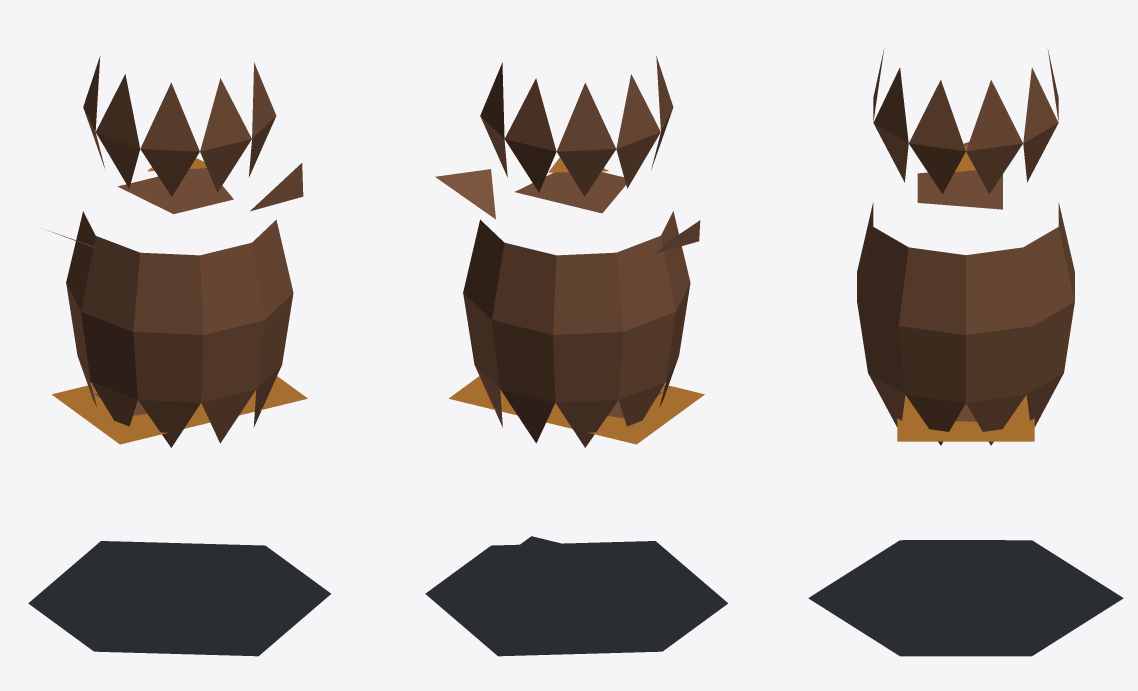
The model's file is conductive-suit.lod.glb.
The picture shows the model from 3 angles, left to right: view 1: azimuth 30°, elevation 25°; view 2: azimuth 150°, elevation 25°; view 3: azimuth 270°, elevation 25°; orthographic projection.
Visible parts, largest first — view 1: m; view 2: m; view 3: m.
Part boxes in pixels (bbox=[...]): m: bbox=[28, 56, 330, 656]; m: bbox=[425, 56, 727, 656]; m: bbox=[808, 48, 1123, 656].
Bounding box in the file's own units: 0.3472 × 0.5144 × 0.2572.
